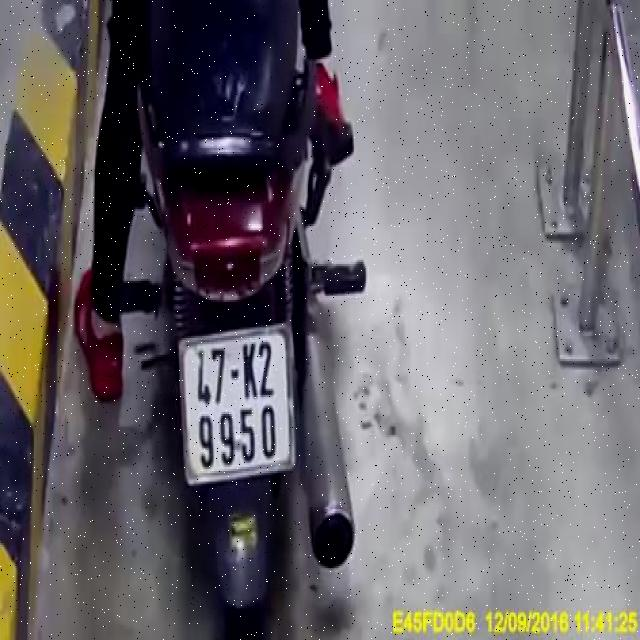0: (260, 403, 278, 465)
2: (258, 338, 276, 401)
4: (194, 347, 213, 405)
5: (238, 409, 258, 465)
7: (210, 346, 229, 405)
9: (218, 411, 237, 466), (199, 412, 216, 469)
K: (243, 338, 260, 403)
